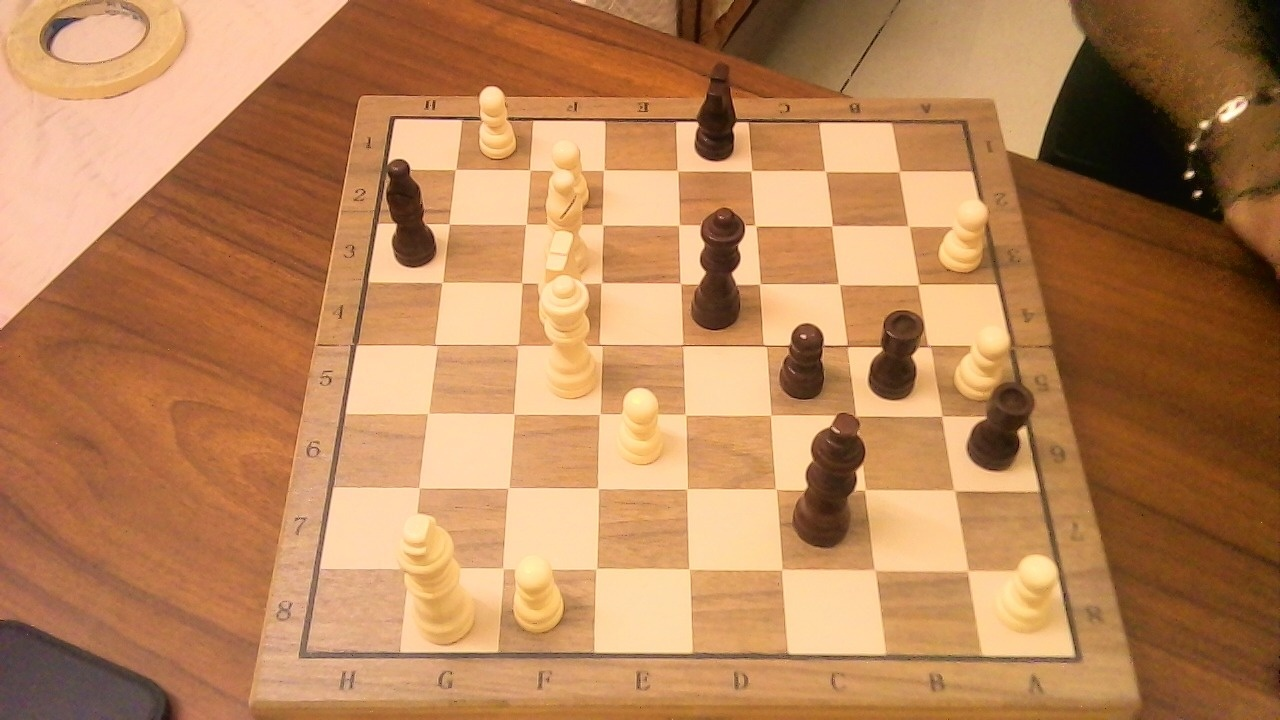B: (532, 160, 595, 275)
K: (392, 501, 486, 649)
P: (989, 544, 1068, 637), (505, 544, 572, 638), (949, 316, 1018, 404), (606, 378, 671, 471), (932, 190, 996, 275), (539, 131, 594, 215), (469, 78, 522, 162)
Q: (527, 262, 602, 404)
b: (378, 147, 443, 272)
k: (788, 397, 879, 552)
n: (685, 51, 747, 166)
p: (774, 314, 837, 402)
q: (687, 196, 760, 334)
r: (961, 370, 1044, 476), (862, 298, 935, 405)
